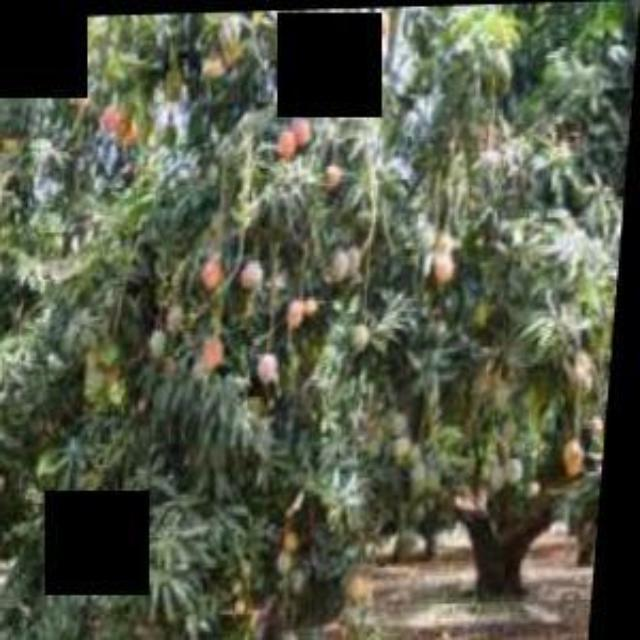tree: (2, 5, 632, 638)
